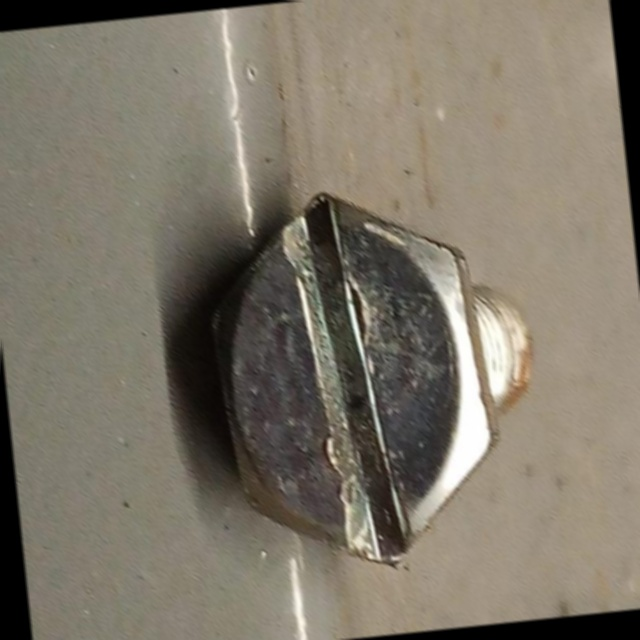duz: (190, 176, 511, 585)
